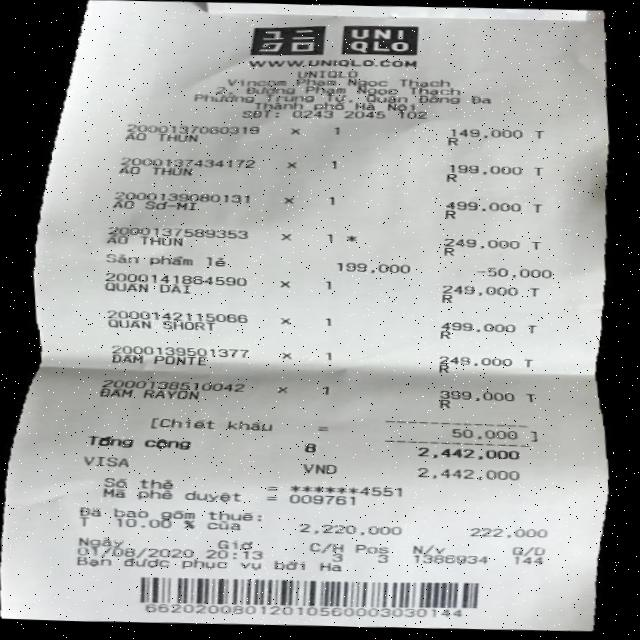Date: (68, 543, 200, 560)
Store_Name: (291, 66, 366, 80)
amount_number: (407, 442, 528, 463)
label_total: (84, 432, 198, 450)
